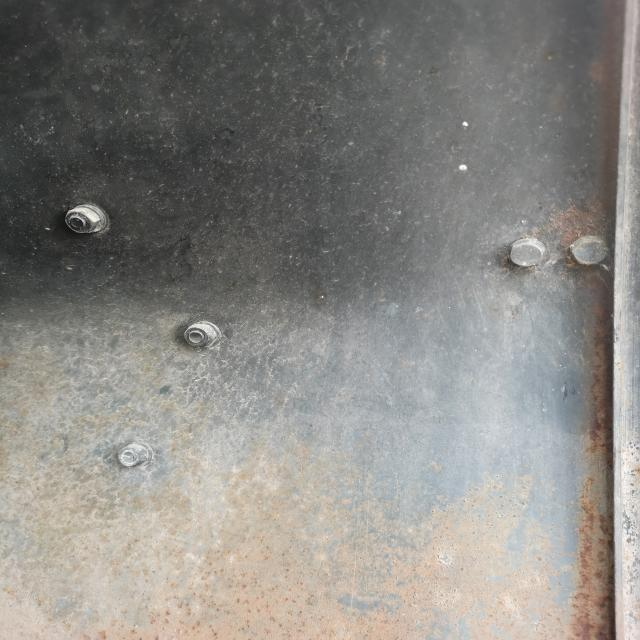bolt head: (506, 236, 546, 270), (567, 238, 611, 267)
bolt nut: (62, 205, 102, 236), (180, 322, 219, 349), (115, 442, 150, 470)
